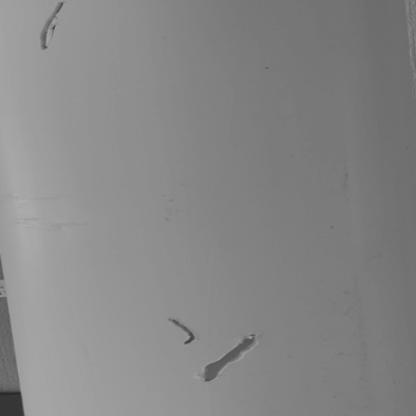fengxi: (201, 330, 260, 383), (41, 1, 69, 55), (166, 314, 199, 346)
